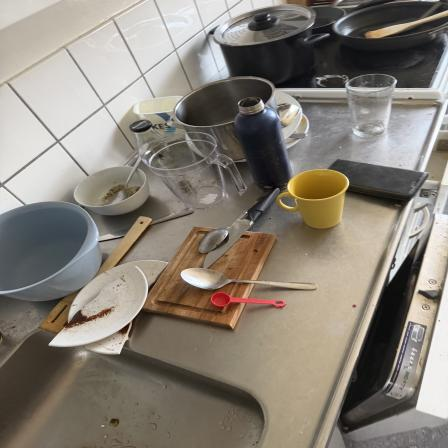blue_bottle: (231, 97, 297, 187)
phone: (320, 156, 433, 198)
yellow_cup: (277, 169, 350, 230)
